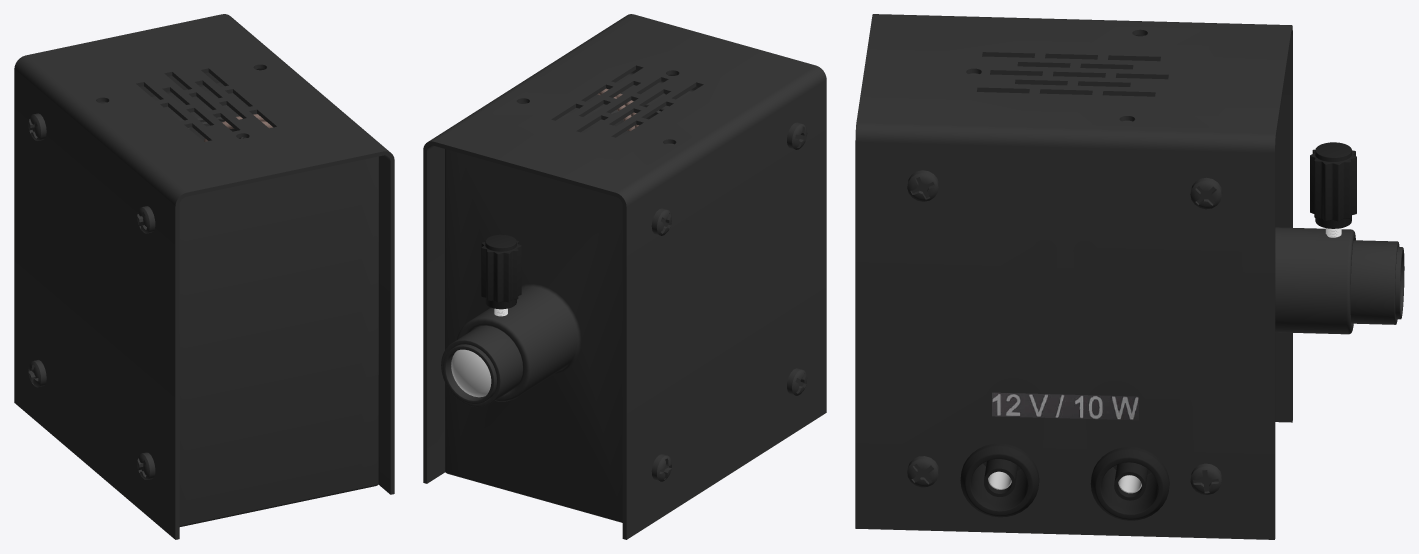
Rendered from LightSource.glb.
3 renders of one model, left to right at view 1: azimuth 30°, elevation 25°; view 2: azimuth 150°, elevation 25°; view 3: azimuth 270°, elevation 25°, orthographic. The views are drawn at different scales.
Visible parts, largest first — view 1: LightSource; view 2: LightSource; view 3: LightSource.
Part boxes in pixels (left/top/right/bottom): LightSource: left=14, top=14, right=394, bottom=539; LightSource: left=423, top=14, right=826, bottom=539; LightSource: left=855, top=14, right=1404, bottom=539.
Bounding box in the file's own units: 0.0616 × 0.0841 × 0.1045.
Materials: 7 (1 with a texture image).
